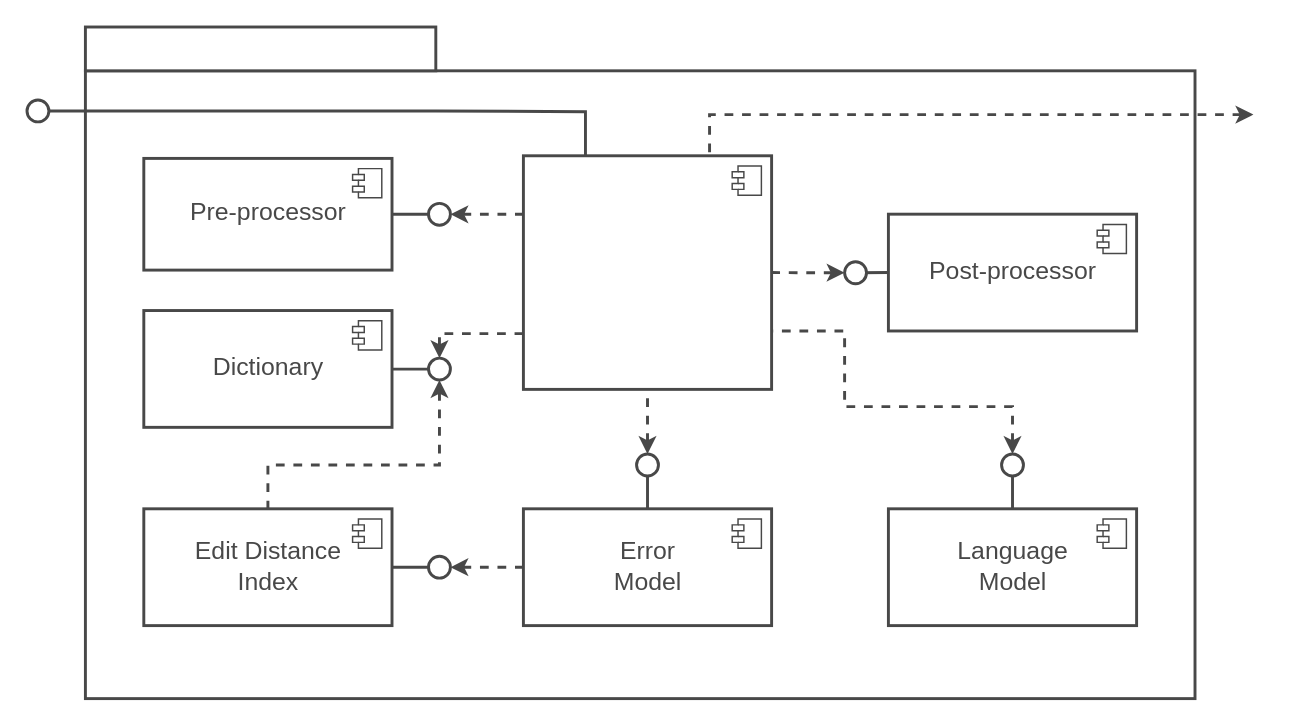
The diagram is 1291 pixels wide and 724 high, and some of its shapes have lost their labels. Each missing label, with the centre of its shape:
"Spellchecker Manager" goes at point (646, 272).
"Spelling correction tool" goes at point (260, 48).
